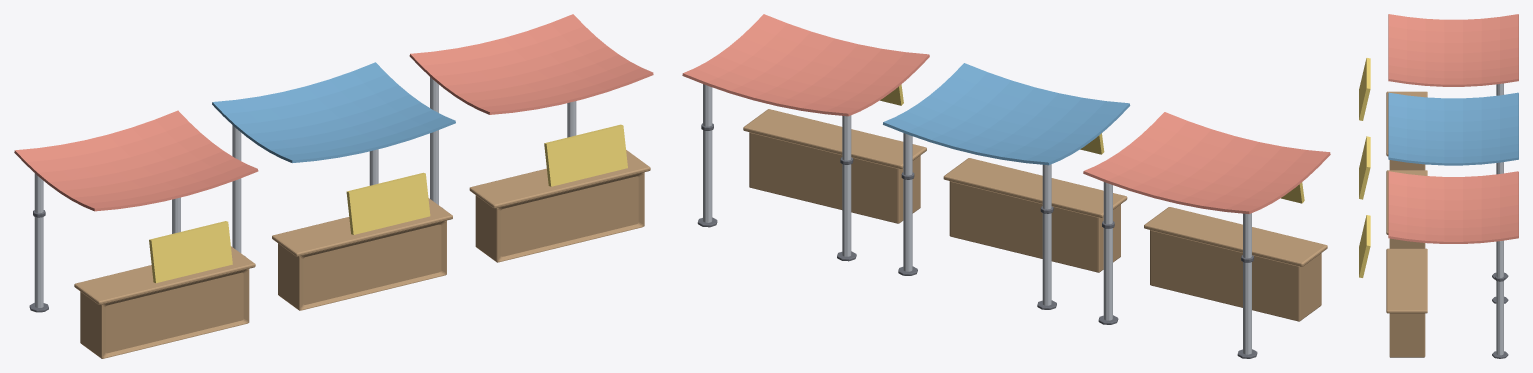
Rendered from FoodCourt.fbx.
The picture shows the model from 3 angles, left to right: view 1: azimuth 30°, elevation 25°; view 2: azimuth 150°, elevation 25°; view 3: azimuth 270°, elevation 25°; orthographic projection. The views are drawn at different scales.
Parts seen in each view (by area): view 1: FoodCourt_Canopy2, FoodCourt_Canopy1, FoodCourt_Canopy0, FoodCourt_Counter2, FoodCourt_Counter0, FoodCourt_Counter1, FoodCourt_Menu0, FoodCourt_Menu1, FoodCourt_Menu2, FoodCourt_Pole0-1.25, FoodCourt_Pole1-1.25, FoodCourt_Pole2-1.25; view 2: FoodCourt_Canopy2, FoodCourt_Canopy0, FoodCourt_Canopy1, FoodCourt_Counter0, FoodCourt_Counter2, FoodCourt_Counter1, FoodCourt_Pole1-1.25, FoodCourt_Pole2-1.25, FoodCourt_Pole11.25, FoodCourt_Pole21.25, FoodCourt_Pole01.25, FoodCourt_Pole0-1.25; view 3: FoodCourt_Canopy0, FoodCourt_Canopy1, FoodCourt_Canopy2, FoodCourt_Counter2, FoodCourt_Pole21.25, FoodCourt_Counter0, FoodCourt_Counter1, FoodCourt_Menu0, FoodCourt_Menu1, FoodCourt_Menu2, FoodCourt_Pole11.25.
Part boxes in pixels (x1,y1,x2,y2): FoodCourt_Canopy2: [409, 14, 653, 114]; FoodCourt_Canopy1: [212, 62, 455, 163]; FoodCourt_Canopy0: [14, 110, 258, 211]; FoodCourt_Counter2: [469, 150, 650, 262]; FoodCourt_Counter0: [74, 246, 255, 358]; FoodCourt_Counter1: [272, 198, 452, 310]; FoodCourt_Menu0: [149, 221, 232, 283]; FoodCourt_Menu1: [346, 172, 430, 234]; FoodCourt_Menu2: [544, 124, 627, 186]; FoodCourt_Pole0-1.25: [29, 173, 48, 312]; FoodCourt_Pole1-1.25: [232, 125, 245, 256]; FoodCourt_Pole2-1.25: [430, 77, 438, 204]; FoodCourt_Canopy2: [682, 14, 929, 116]; FoodCourt_Canopy0: [1083, 112, 1330, 213]; FoodCourt_Canopy1: [883, 63, 1130, 165]; FoodCourt_Counter0: [1144, 207, 1327, 321]; FoodCourt_Counter2: [743, 109, 926, 223]; FoodCourt_Counter1: [943, 158, 1127, 272]; FoodCourt_Pole1-1.25: [1037, 164, 1056, 309]; FoodCourt_Pole2-1.25: [837, 115, 856, 261]; FoodCourt_Pole11.25: [898, 133, 917, 275]; FoodCourt_Pole21.25: [697, 84, 717, 227]; FoodCourt_Pole01.25: [1098, 182, 1118, 324]; FoodCourt_Pole0-1.25: [1237, 213, 1257, 358]; FoodCourt_Canopy0: [1388, 14, 1518, 86]; FoodCourt_Canopy1: [1388, 92, 1518, 165]; FoodCourt_Canopy2: [1388, 171, 1518, 243]; FoodCourt_Counter2: [1386, 248, 1427, 357]; FoodCourt_Pole21.25: [1492, 240, 1508, 358]; FoodCourt_Counter0: [1386, 91, 1427, 170]; FoodCourt_Counter1: [1386, 170, 1427, 248]; FoodCourt_Menu0: [1359, 58, 1370, 120]; FoodCourt_Menu1: [1359, 136, 1370, 199]; FoodCourt_Menu2: [1359, 215, 1370, 277]; FoodCourt_Pole11.25: [1492, 162, 1508, 279].
Size of the model in its own units: 1019 by 267 by 310.
